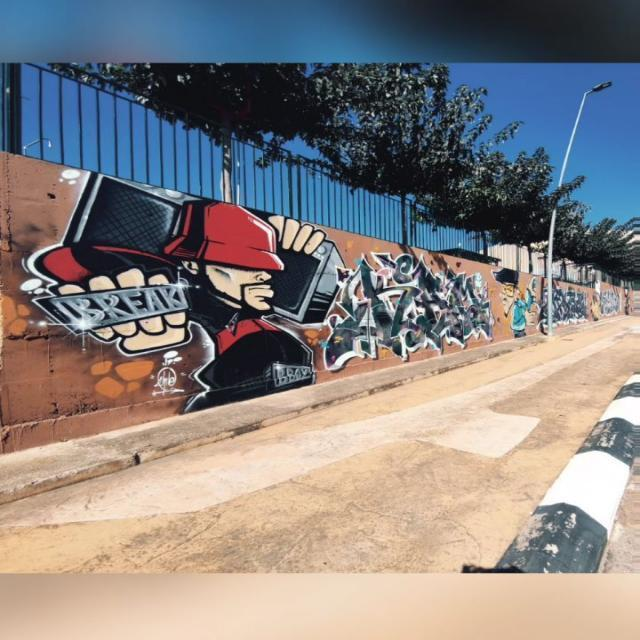nonspitting: (324, 251, 492, 371), (546, 286, 586, 324)
spitting: (27, 172, 345, 414), (496, 266, 536, 336)
